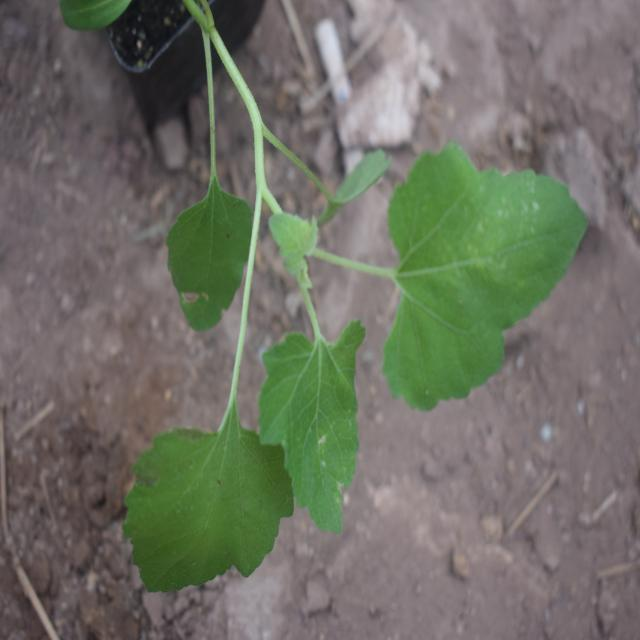cocklebur: (77, 116, 587, 579)
